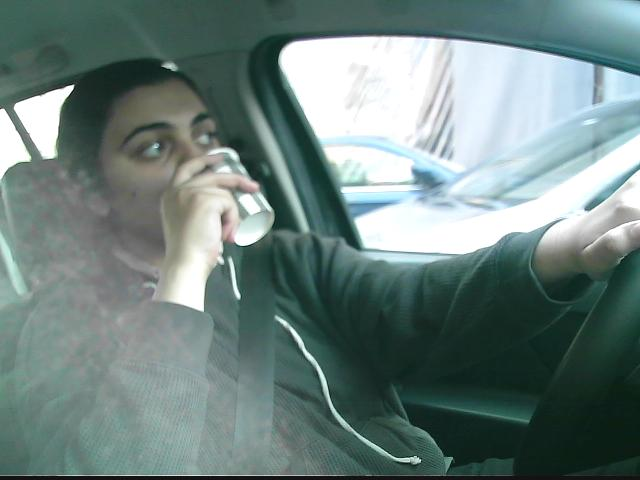Drinking: (176, 144, 282, 250)
